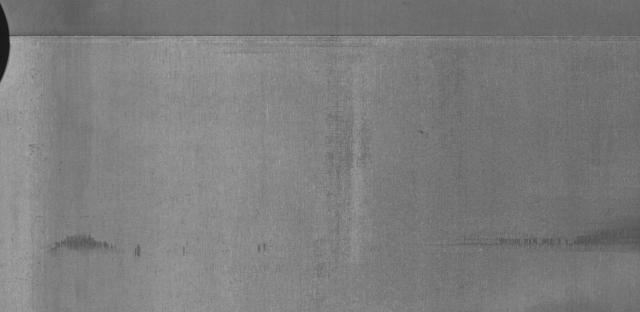welding_line: (7, 24, 640, 45)
